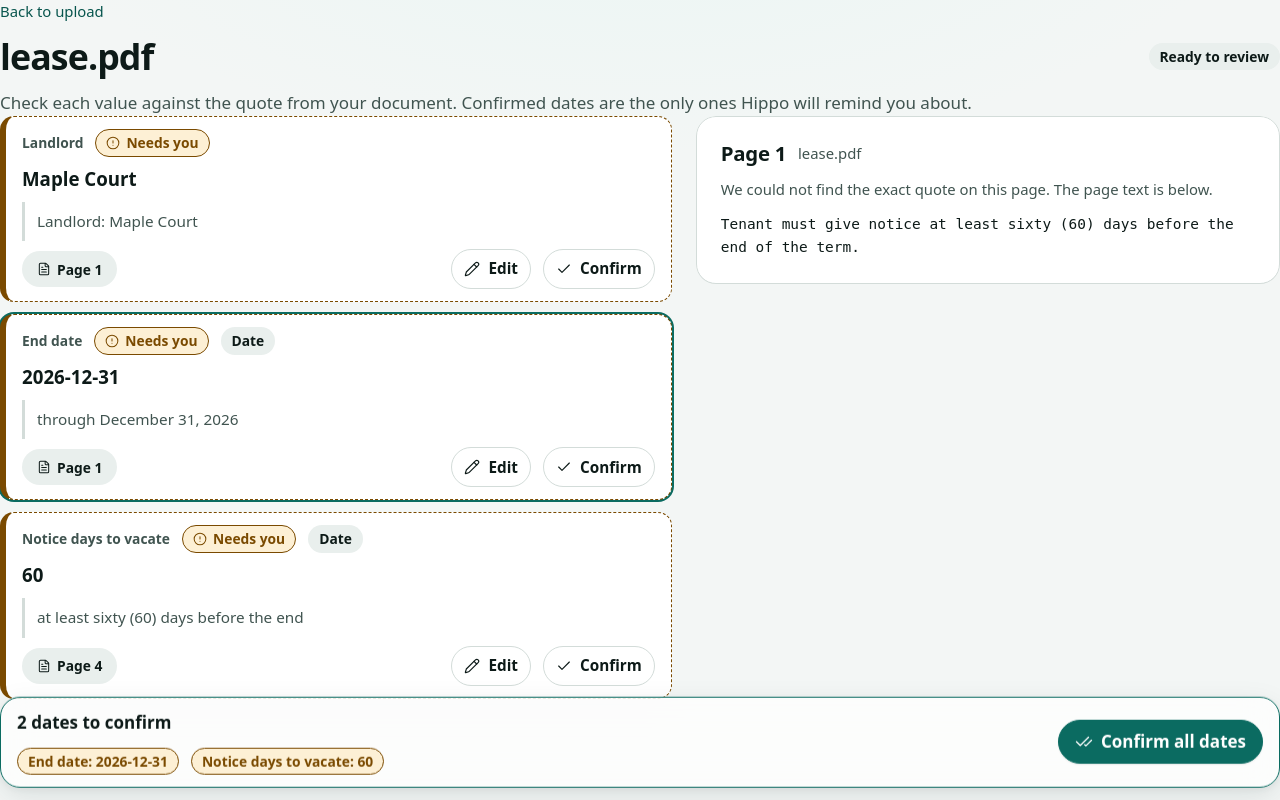
Test case: Review: Confirm all dates › sends only the date fields on screen, then shows the deadline with its clause and page
The width and height of the screenshot is (1280, 800).
Expected: the text "2 dates to confirm" is shown, [17, 710, 171, 733]
What coordinates should you click on to do the following:
click the button "Confirm all dates"
I would click on:
 (1160, 742)
Its box is [1058, 720, 1263, 764].
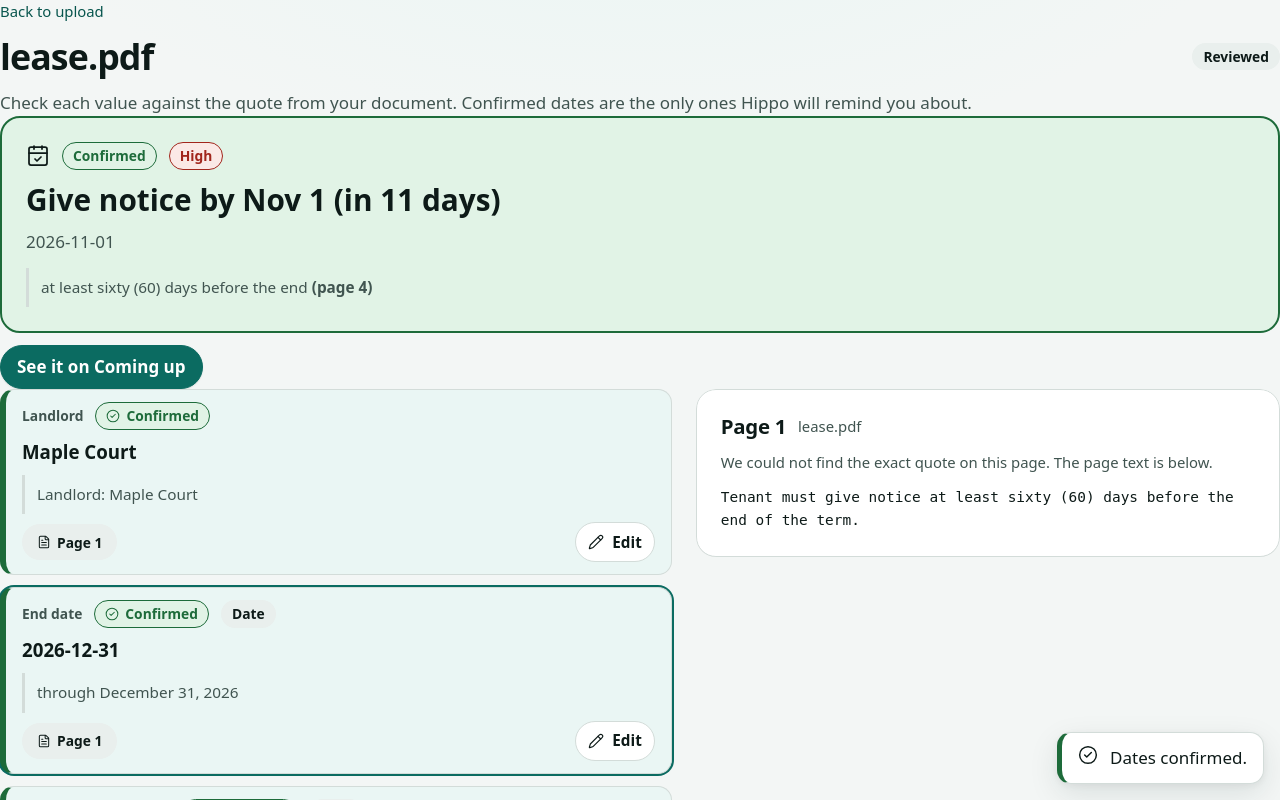
Expected: the element with test id "deadline-card" shows "Give notice by Nov 1 (in 11 days)", [0, 116, 1279, 333]
Expected: the element with test id "deadline-card" shows "page 4", [0, 116, 1279, 333]
Expected: the element with test id "deadline-card" shows "sixty (60) days", [41, 277, 308, 297]
